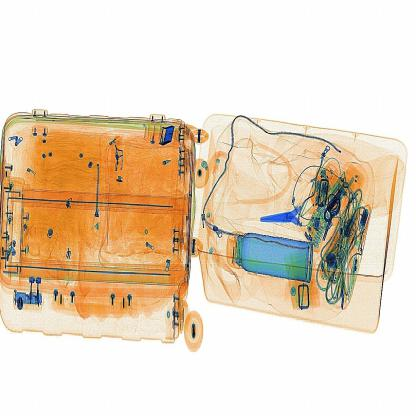gun: (255, 188, 318, 247)
